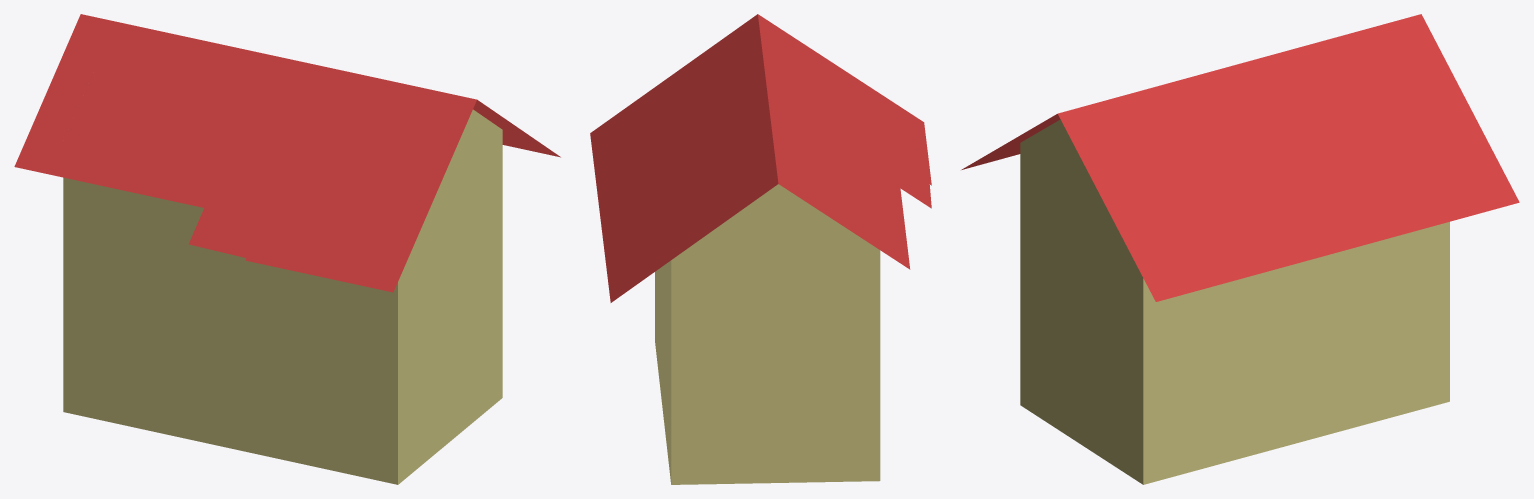
The picture shows the model from 3 angles, left to right: view 1: azimuth 30°, elevation 25°; view 2: azimuth 150°, elevation 25°; view 3: azimuth 270°, elevation 25°; orthographic projection. The views are drawn at different scales.
Size of the model in its own units: 14.69 by 16.22 by 10.82.
